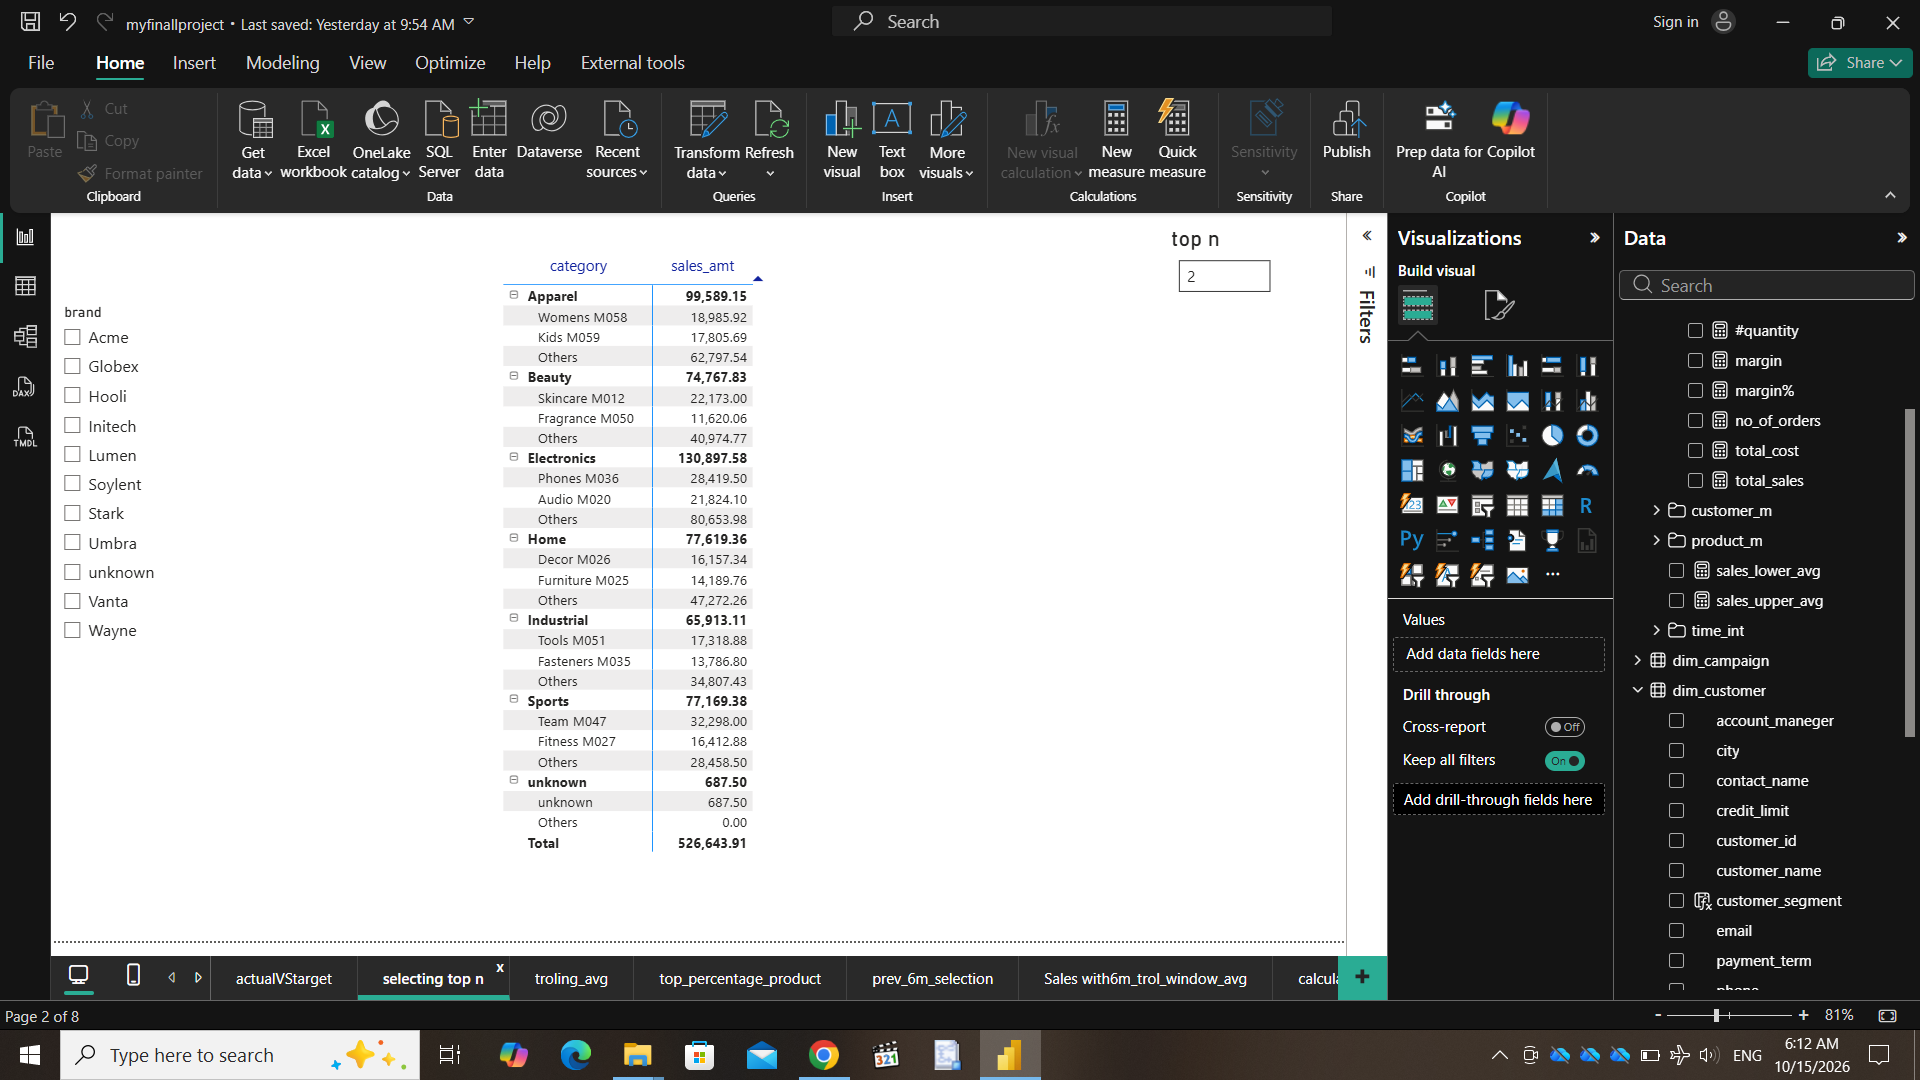

What the dashboard file says about the page in this screenshot:
{"tool":"powerbi","page":{"name":" selecting top n","canvas":[1280,720],"ordinal":2},"visuals":[{"type":"pivotTable","fields":{"Rows":["dim_product.category","product_product.product_name"],"Values":["_meassures.s_amt","_meassures.ranking"]},"box":[441.9,34.3,436.4,686.1],"z":0},{"type":"slicer","title":"top n","fields":{"Values":["topn.topn"]},"box":[1101.9,12.3,178.4,89.2],"z":1000},{"type":"slicer","fields":{"Values":["dim_product.brand"]},"box":[0,83.7,123.5,373.2],"z":2000}]}

Visuals, with their boxes on the page's 1280x720 design canvas (x1, y1, x2, y2). These are canvas units, not pixel positions in the 1920x1080 screenshot, which may show the page scaled, cropped or inside an application window:
pivotTable - dim_product.category x product_product.product_name: [442,34,878,720]
"top n" slicer: [1102,12,1280,102]
slicer - dim_product.brand: [0,84,124,457]
